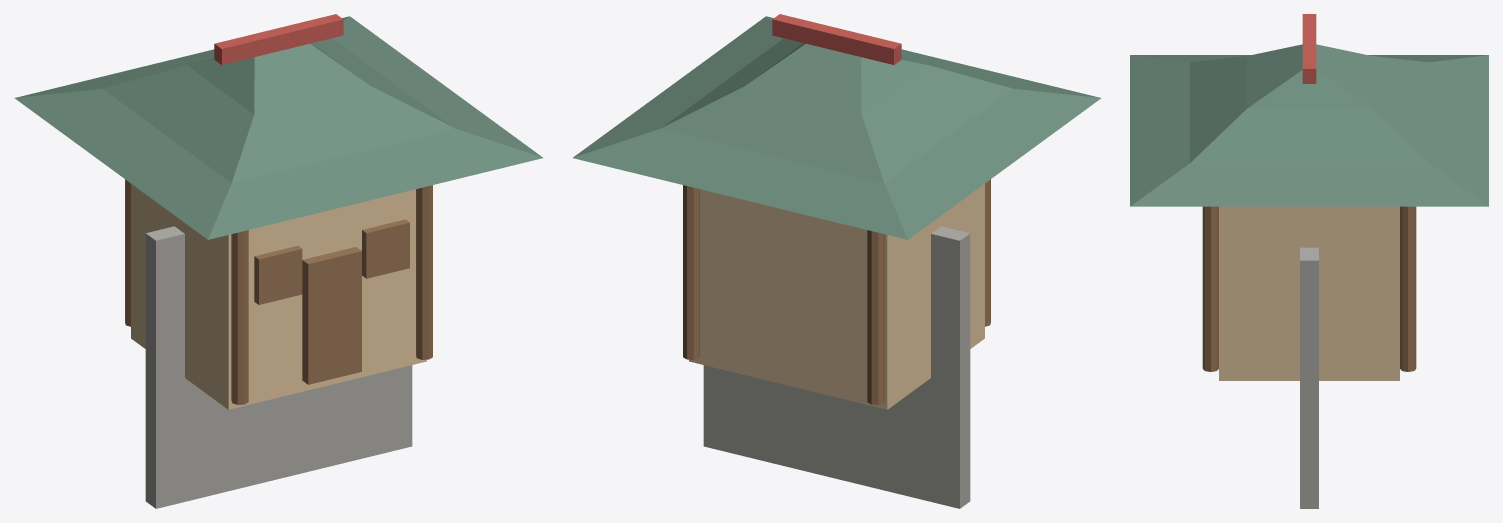
Rendered from CasaHan.fbx.
3 views of the same model, side by side, from view 1: azimuth 30°, elevation 25°; view 2: azimuth 150°, elevation 25°; view 3: azimuth 270°, elevation 25° (orthographic). The views are drawn at different scales.
Visible parts, largest first — view 1: CasaHan; view 2: CasaHan; view 3: CasaHan.
Boxes of the visible parts, bbox=[...] form: CasaHan: bbox=[14, 14, 542, 508]; CasaHan: bbox=[573, 14, 1101, 508]; CasaHan: bbox=[1130, 14, 1488, 508].
Bounding box in the file's own units: 2.62 × 3.3 × 2.62.
